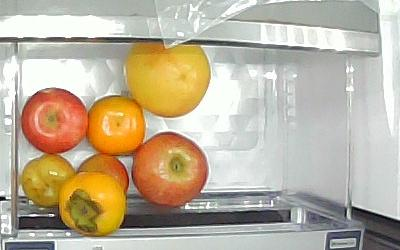apple: (132, 131, 210, 209), (21, 87, 88, 154)
grapefruit: (122, 43, 210, 118)
persimmon: (58, 172, 126, 236), (88, 94, 145, 156)
prune: (22, 155, 75, 208), (78, 152, 129, 194)
